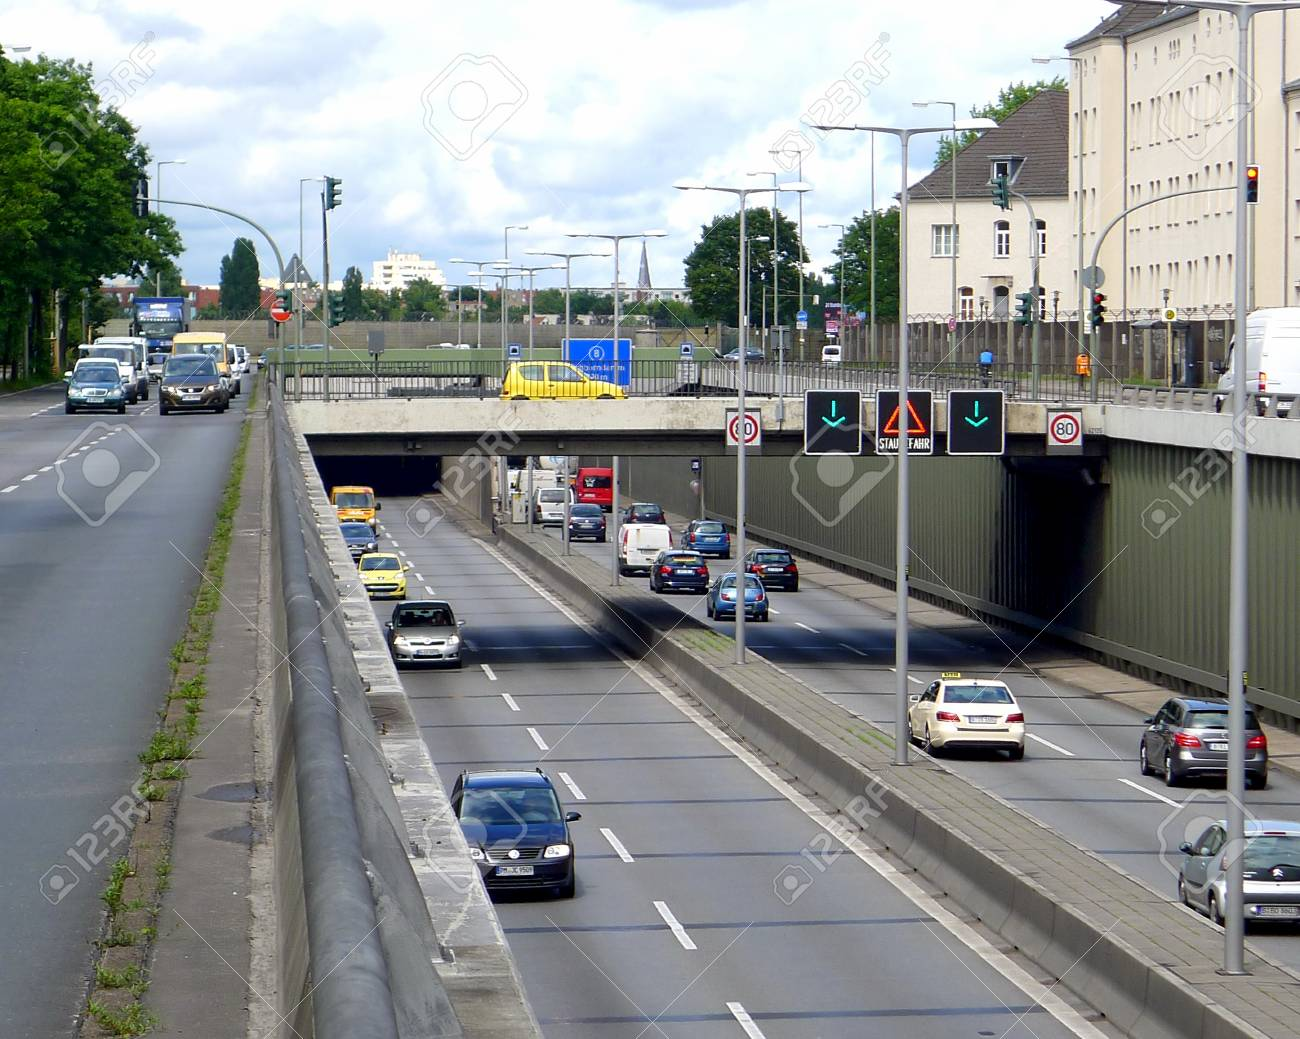bridge: (276, 347, 830, 436)
